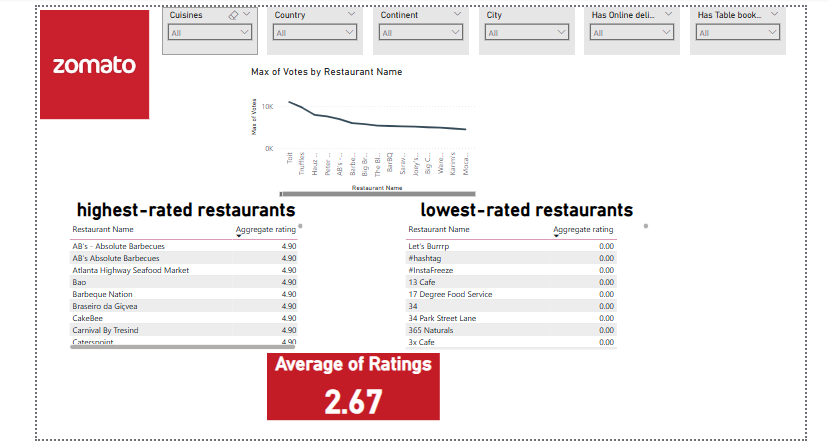

The dashboard page shown, as its layout file describes it:
{"tool":"powerbi","page":{"name":"Customer reviews and ratings analysis","canvas":[1280,720],"ordinal":1},"visuals":[{"type":"tableEx","title":"  highest-rated restaurants","fields":{"Values":["Restaurant.Restaurant Name","KPIs.Aggregate rating"]},"box":[208,320,400,256],"z":0},{"type":"tableEx","title":" lowest-rated restaurants","fields":{"Values":["Restaurant.Restaurant Name","KPIs.Aggregate rating"]},"box":[688,320,416,256],"z":1000},{"type":"card","title":"Average of Ratings","fields":{"Values":["Avg(KPIs.Aggregate rating)"]},"box":[496,576,288,112],"z":2000},{"type":"image","box":[0,0,192,192],"z":3000},{"type":"slicer","fields":{"Values":["Cuisines.Cuisines"]},"box":[208,0,160,80],"z":4000},{"type":"slicer","fields":{"Values":["Country Master.Country"]},"box":[384,0,160,80],"z":5000},{"type":"slicer","fields":{"Values":["Restaurant.Continent"]},"box":[560,0,160,80],"z":6000},{"type":"slicer","fields":{"Values":["Restaurant.City"]},"box":[736,0,160,80],"z":7000},{"type":"slicer","fields":{"Values":["Service.Has Online delivery"]},"box":[912,0,160,80],"z":8000},{"type":"slicer","fields":{"Values":["Service.Has Table booking"]},"box":[1088,0,160,80],"z":9000},{"type":"lineChart","fields":{"Y":["Max(KPIs.Votes)"],"Category":["Restaurant.Restaurant Name"]},"box":[208,96,896,224],"z":10000}]}

Visuals, with their boxes on the page's 1280x720 design canvas (x1, y1, x2, y2). These are canvas units, not pixel positions in the 828x445 screenshot, which may show the page scaled, cropped or inside an application window:
"  highest-rated restaurants" tableEx: left=208, top=320, right=608, bottom=576
" lowest-rated restaurants" tableEx: left=688, top=320, right=1104, bottom=576
"Average of Ratings" card: left=496, top=576, right=784, bottom=688
image: left=0, top=0, right=192, bottom=192
slicer - Cuisines.Cuisines: left=208, top=0, right=368, bottom=80
slicer - Country Master.Country: left=384, top=0, right=544, bottom=80
slicer - Restaurant.Continent: left=560, top=0, right=720, bottom=80
slicer - Restaurant.City: left=736, top=0, right=896, bottom=80
slicer - Service.Has Online delivery: left=912, top=0, right=1072, bottom=80
slicer - Service.Has Table booking: left=1088, top=0, right=1248, bottom=80
lineChart - Max(KPIs.Votes) x Restaurant.Restaurant Name: left=208, top=96, right=1104, bottom=320
